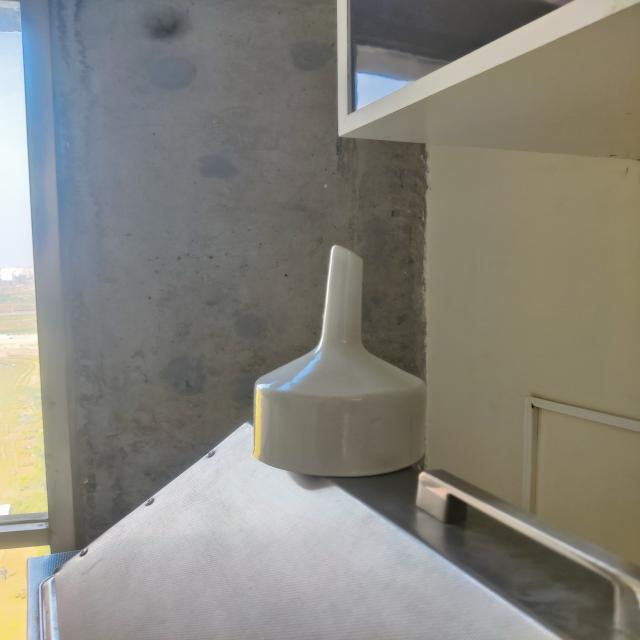Buchner_Funnel: (220, 220, 480, 509)
